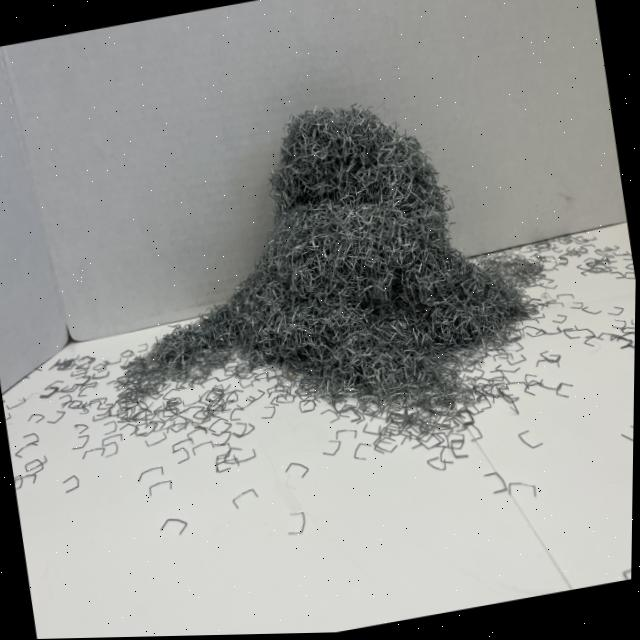staples: (70, 68, 559, 449)
